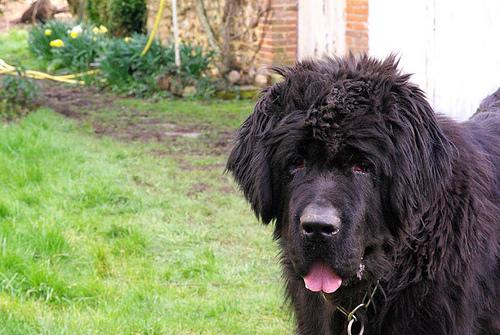dog-newfoundland: (226, 61, 450, 291)
